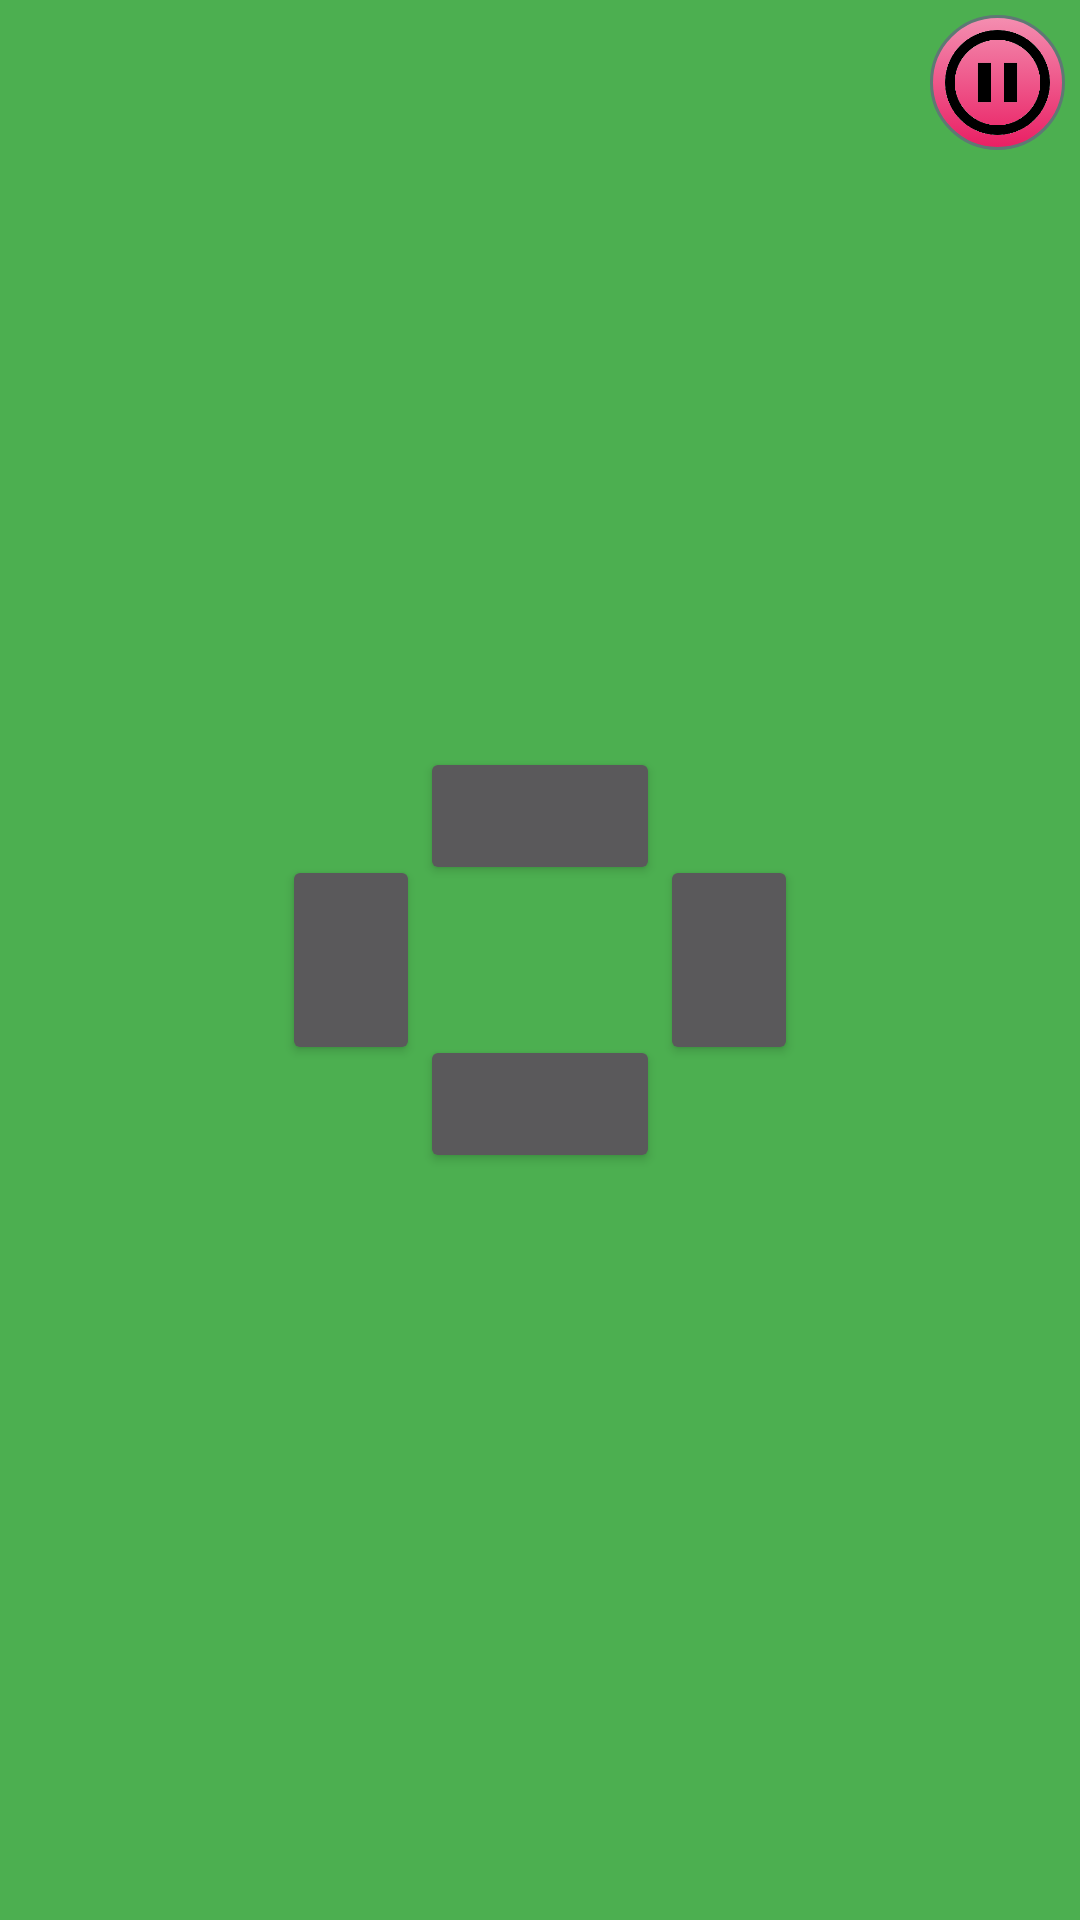

Locate icon controls on the screen. Image size 1080px×1920px, boxes as (left=x1, top=y1, right=x2, bottom=y2).
pause: (left=930, top=15, right=1065, bottom=150)
